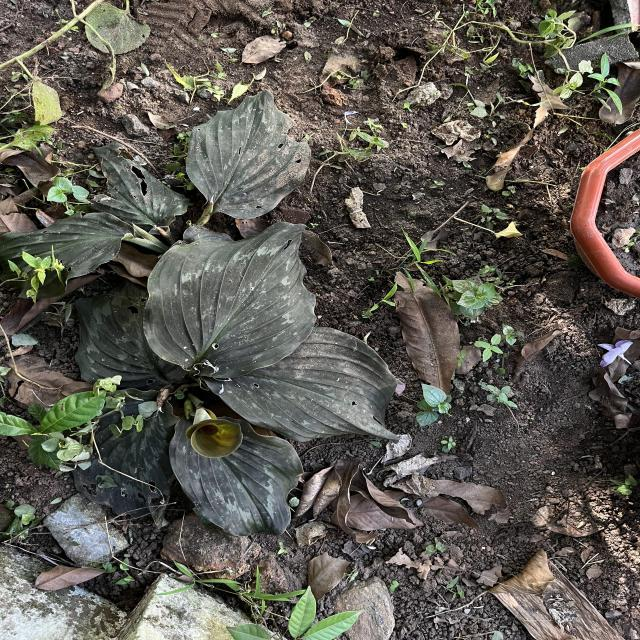Kaempferia galanga linn: (140, 220, 318, 380), (200, 323, 404, 448), (165, 413, 306, 538), (184, 87, 314, 221)
